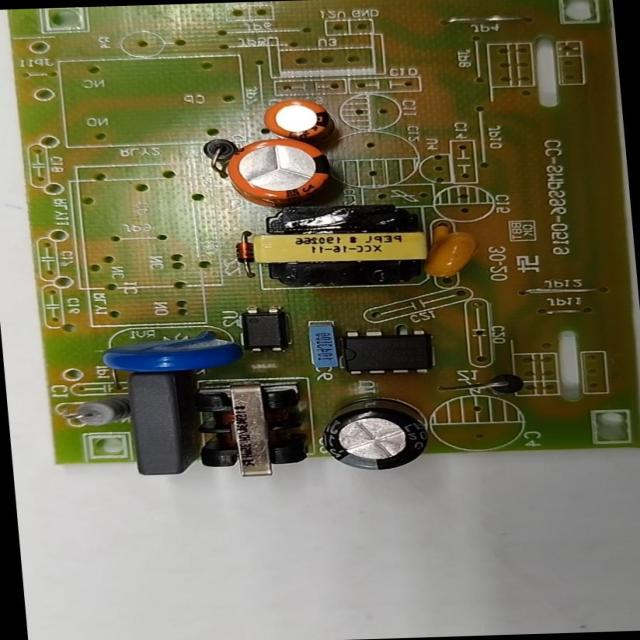Cap1: (222, 137, 333, 206)
Cap2: (264, 98, 329, 136)
Cap3: (320, 394, 426, 472)
MOSFET: (339, 329, 430, 376)
Mov: (100, 332, 232, 372)
Resistor: (68, 395, 131, 427)
Transformer: (247, 204, 430, 290), (198, 384, 305, 478)
